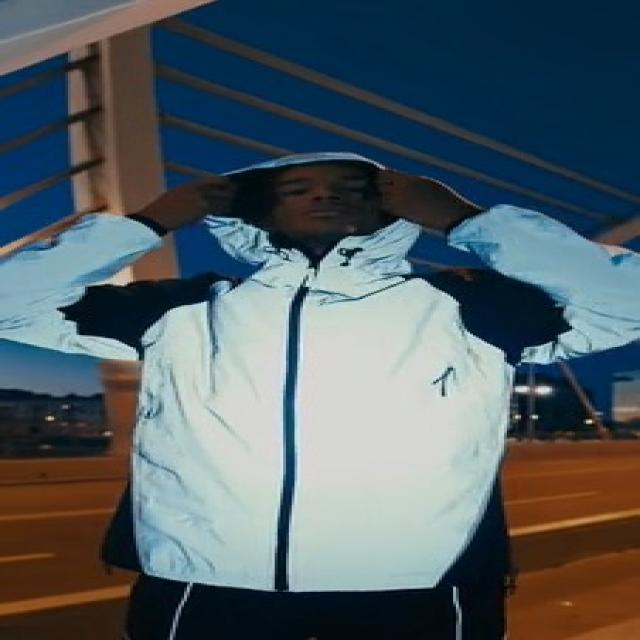Jacket_Wearer: (7, 214, 640, 563)
Person: (0, 150, 640, 640)
